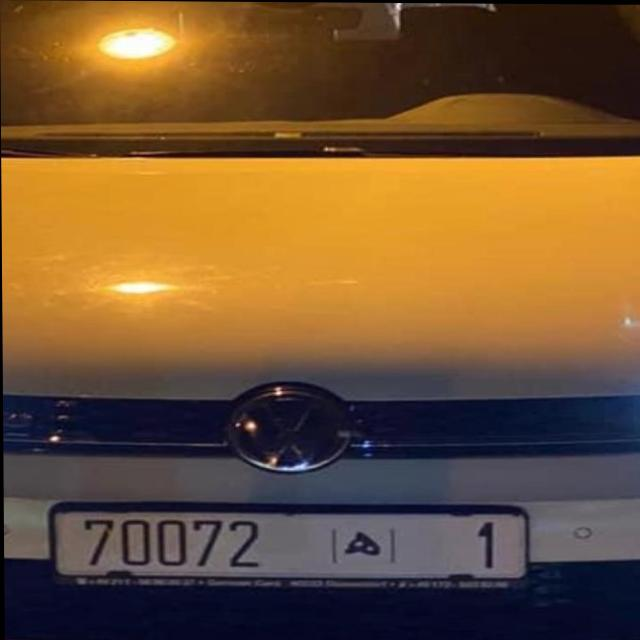License-Plate: (50, 503, 528, 586)
